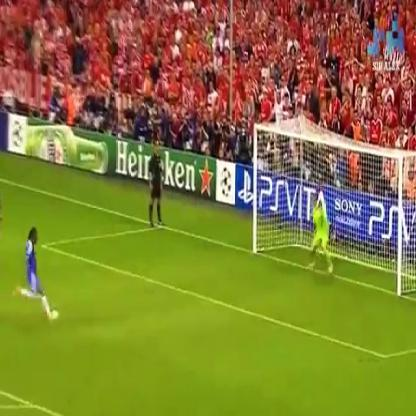penalty kick: (17, 138, 405, 324)
